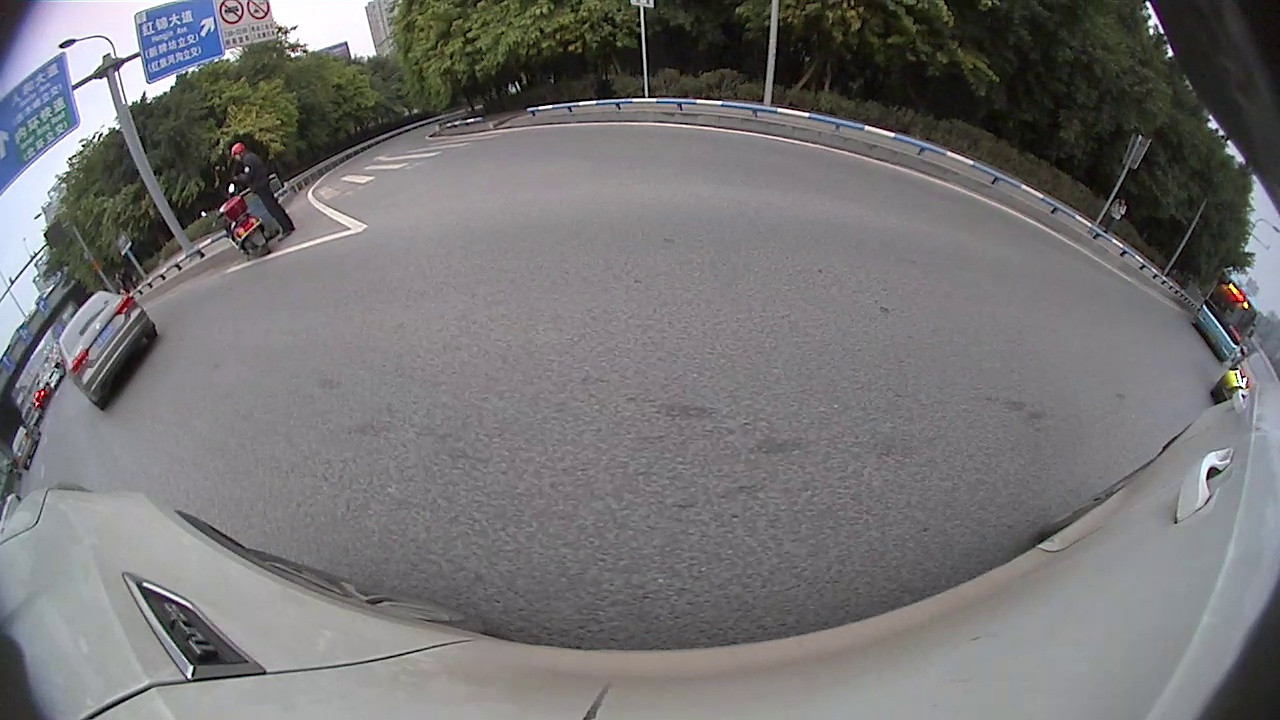bus: (1193, 269, 1262, 364)
car: (57, 289, 158, 411), (1211, 349, 1279, 408), (1, 490, 27, 537), (8, 426, 39, 465)
person: (243, 142, 268, 247), (1115, 192, 1125, 233)
rear: (92, 389, 112, 414), (142, 324, 162, 345)
rider: (199, 181, 272, 261)
